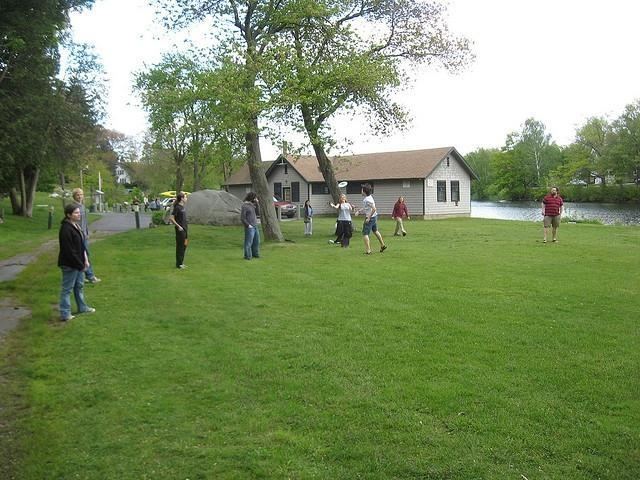car: (162, 198, 178, 210), (565, 179, 589, 187)
